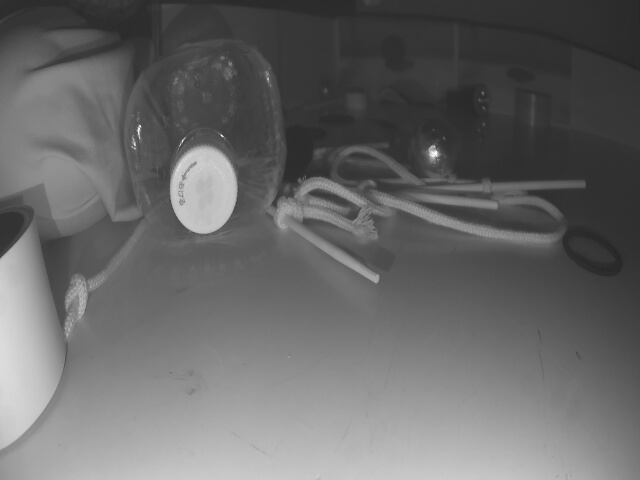Live: (409, 118, 459, 180)
